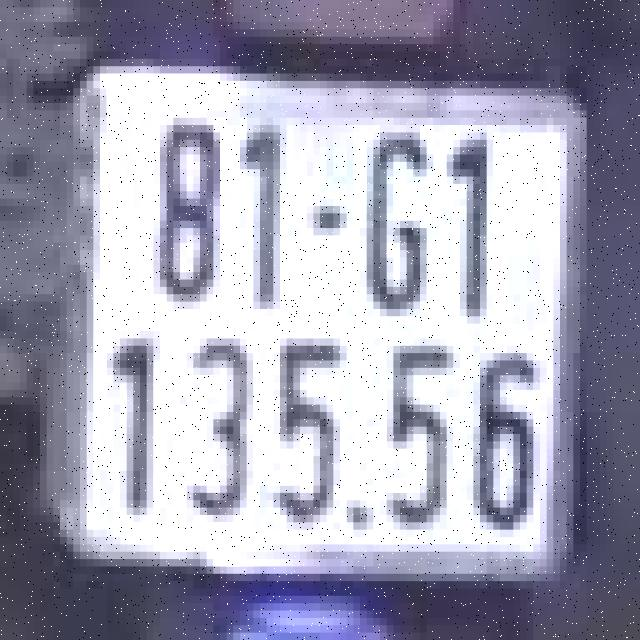1: (440, 125, 507, 324), (107, 331, 173, 522), (236, 110, 296, 316)
3: (187, 327, 253, 526)
5: (266, 335, 346, 533), (376, 335, 456, 533)
6: (473, 346, 547, 537)
8: (137, 103, 230, 316)
G: (354, 121, 434, 328)
